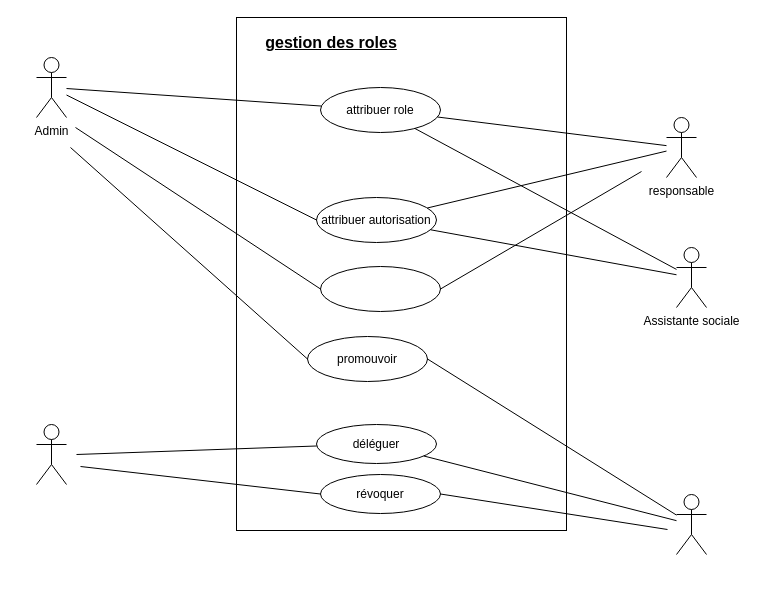
The diagram is 757 pixels wide and 593 high, and some of its shapes have lost their labels. The shapes that lost their labels are listed below. From the top down, each one's centre as x and y in pixels, then its label:
the point at 380,289: limoger
the point at 51,454: responsable vestiaire
the point at 691,524: bénévole
